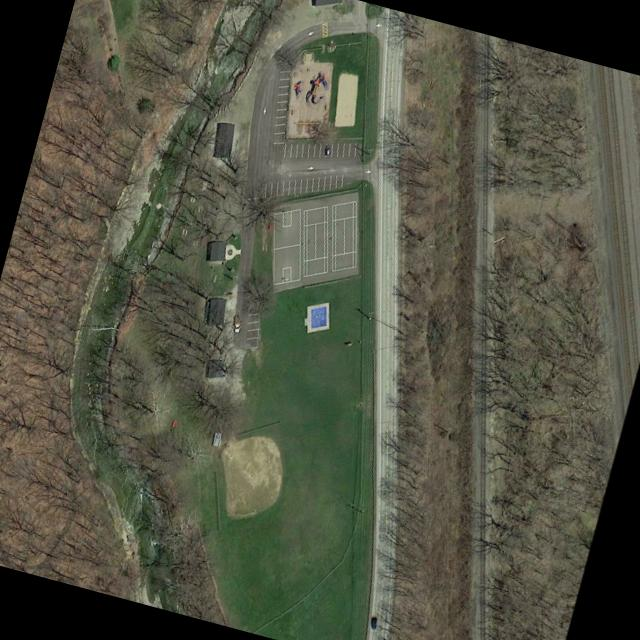large-vehicle: (233, 313, 241, 331)
small-vehicle: (370, 616, 377, 629), (325, 143, 330, 155)
